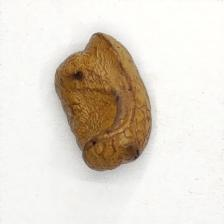NG: (61, 33, 139, 152)
